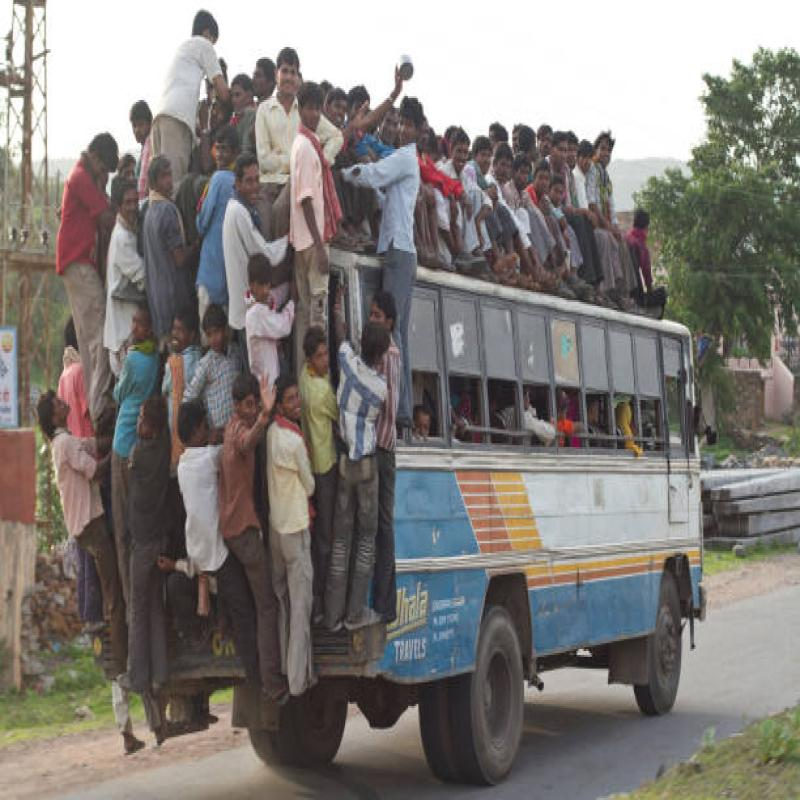bus: (203, 218, 703, 671)
